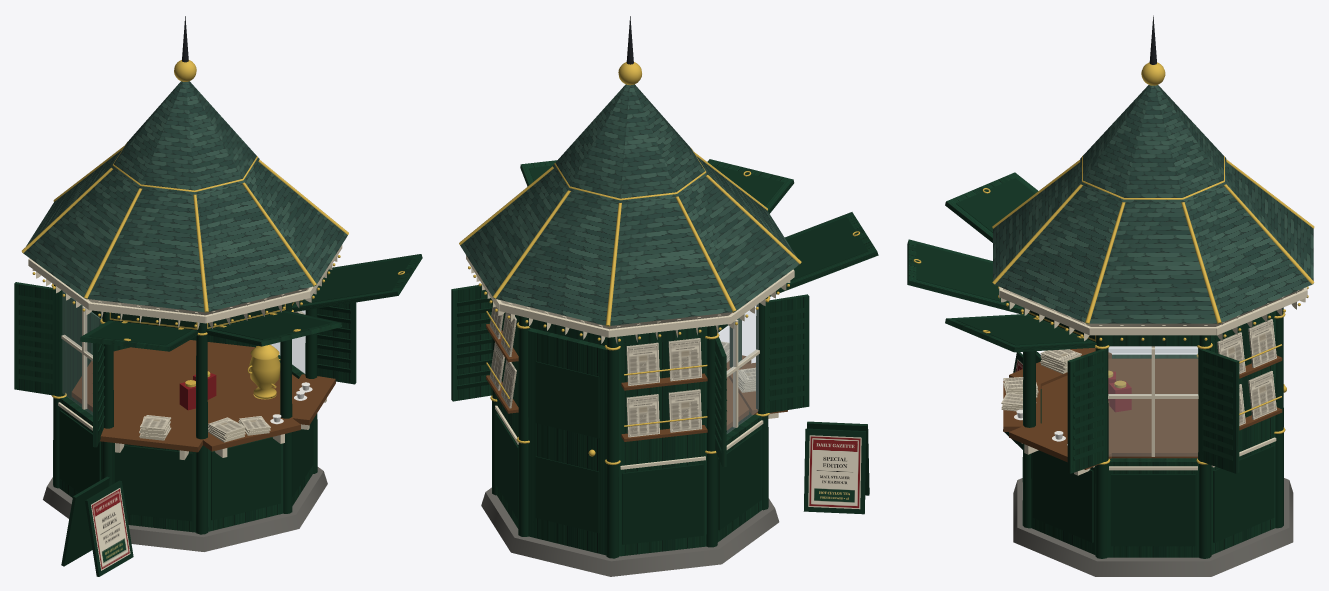
File: victorian_newspaper_kiosk.glb
The picture shows the model from 3 angles, left to right: view 1: azimuth 30°, elevation 25°; view 2: azimuth 150°, elevation 25°; view 3: azimuth 270°, elevation 25°; orthographic projection. The views are drawn at different scales.
Parts seen in each view (by area): view 1: Octagonal_Roof_And_Scalloped_Trim, Victorian_Newspaper_Kiosk_Tea_Stall, Broadsheets_And_Tea_Stall_Props, Newspaper_Headline_Placard, Top_Hinged_Shutter_1, Top_Hinged_Shutter_0, Top_Hinged_Shutter_7, Victorian_Brass_Tea_Urn; view 2: Victorian_Newspaper_Kiosk_Tea_Stall, Octagonal_Roof_And_Scalloped_Trim, Newspaper_Headline_Placard, Top_Hinged_Shutter_7, Top_Hinged_Shutter_0, Broadsheets_And_Tea_Stall_Props; view 3: Victorian_Newspaper_Kiosk_Tea_Stall, Octagonal_Roof_And_Scalloped_Trim, Broadsheets_And_Tea_Stall_Props, Top_Hinged_Shutter_0, Top_Hinged_Shutter_1, Top_Hinged_Shutter_7.
Part boxes in pixels (bbox=[...]): Octagonal_Roof_And_Scalloped_Trim: bbox=[21, 16, 348, 329]; Victorian_Newspaper_Kiosk_Tea_Stall: bbox=[14, 282, 356, 551]; Broadsheets_And_Tea_Stall_Props: bbox=[71, 340, 312, 442]; Newspaper_Headline_Placard: bbox=[61, 476, 133, 576]; Top_Hinged_Shutter_1: bbox=[292, 254, 422, 311]; Top_Hinged_Shutter_0: bbox=[206, 310, 341, 346]; Top_Hinged_Shutter_7: bbox=[80, 320, 198, 351]; Victorian_Brass_Tea_Urn: bbox=[247, 344, 280, 399]; Victorian_Newspaper_Kiosk_Tea_Stall: bbox=[451, 284, 809, 576]; Octagonal_Roof_And_Scalloped_Trim: bbox=[459, 16, 801, 343]; Newspaper_Headline_Placard: bbox=[803, 421, 869, 514]; Top_Hinged_Shutter_7: bbox=[769, 212, 878, 296]; Top_Hinged_Shutter_0: bbox=[707, 159, 794, 213]; Broadsheets_And_Tea_Stall_Props: bbox=[721, 341, 755, 429]; Victorian_Newspaper_Kiosk_Tea_Stall: bbox=[1003, 307, 1293, 576]; Octagonal_Roof_And_Scalloped_Trim: bbox=[992, 15, 1314, 340]; Broadsheets_And_Tea_Stall_Props: bbox=[1001, 349, 1198, 457]; Top_Hinged_Shutter_0: bbox=[907, 239, 1023, 314]; Top_Hinged_Shutter_1: bbox=[945, 314, 1096, 352]; Top_Hinged_Shutter_7: bbox=[945, 172, 1038, 242].
Bounding box in the file's own units: 3.82 × 5.06 × 3.71.
Materials: 19 (7 with a texture image).
